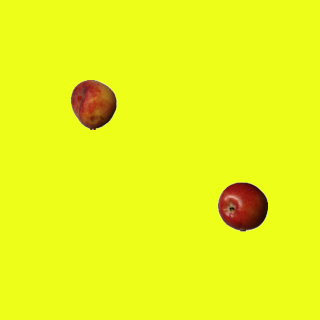Apple Braeburn: (217, 181, 267, 231)
Peach: (68, 79, 118, 129)
